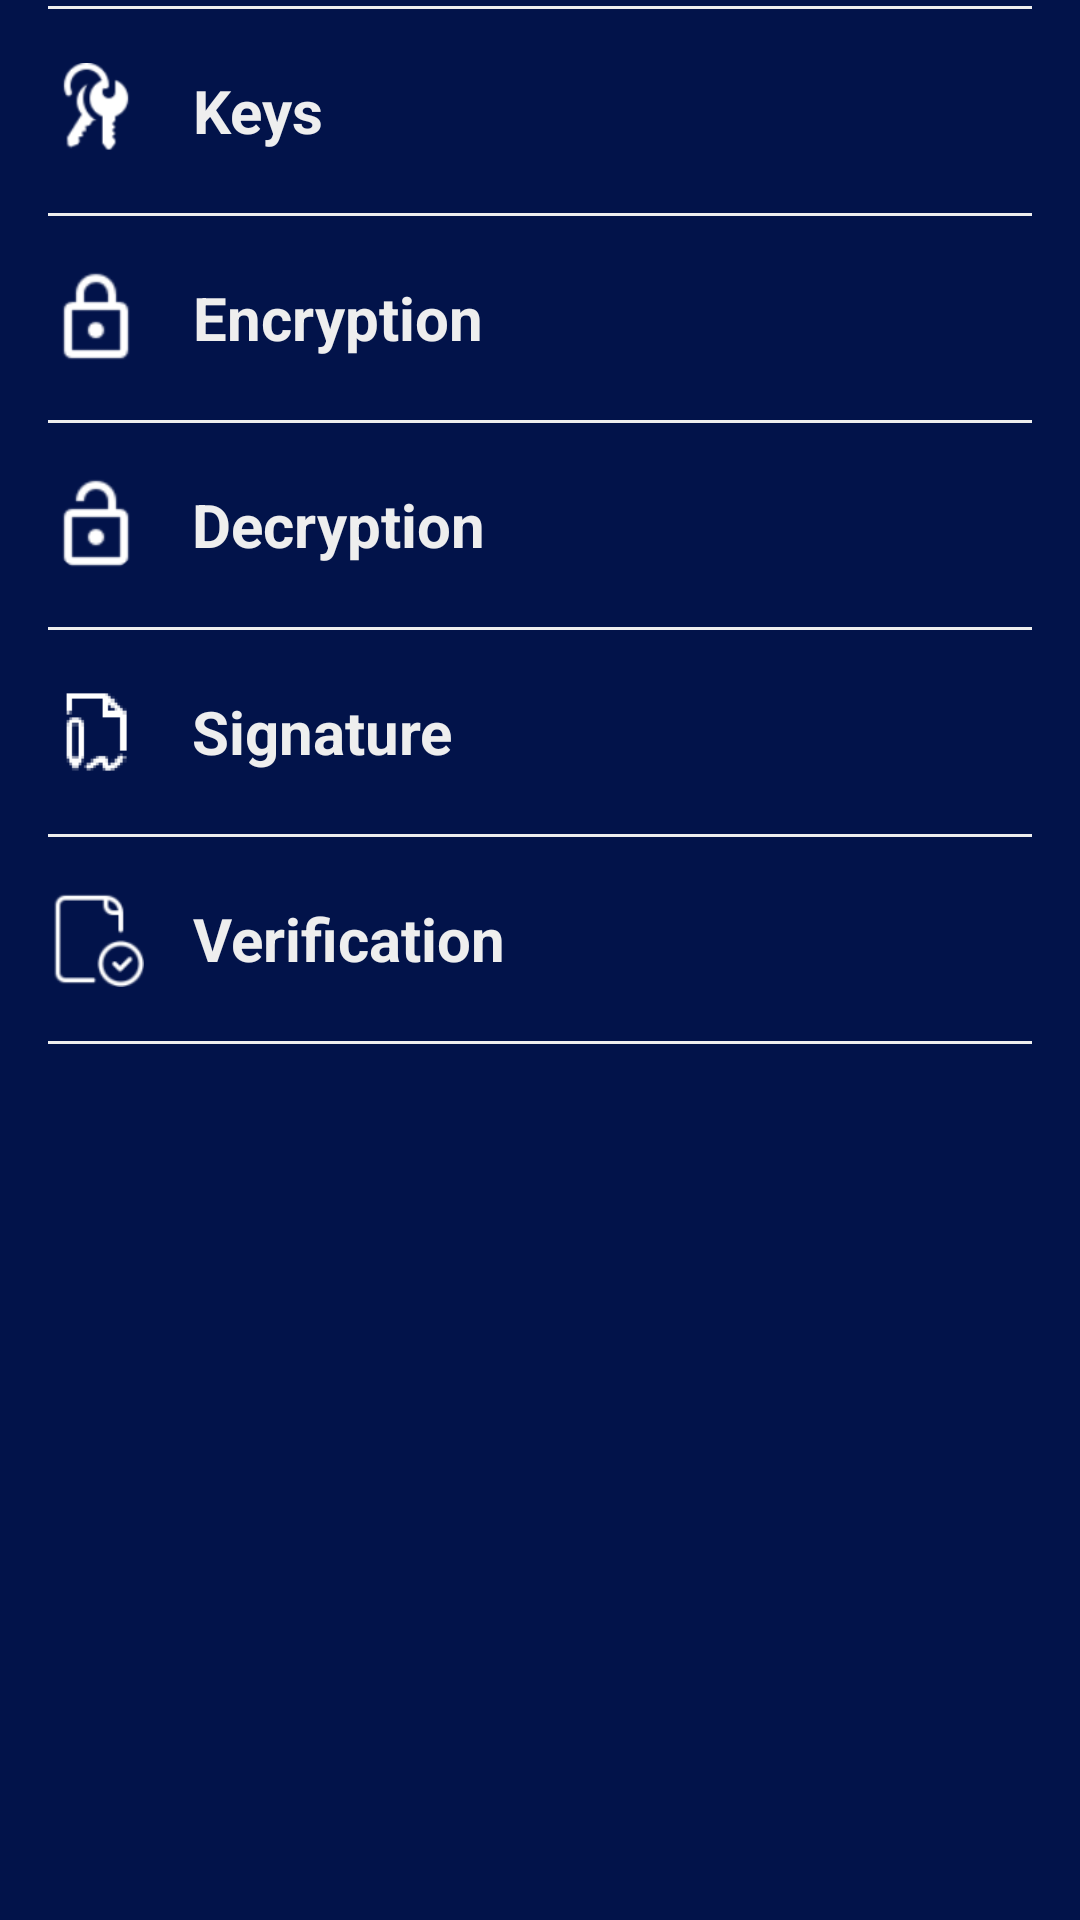

Icon click points for this 1080 x 1920 phone screenshot, format (x,y):
lock: (96,316)
unlock: (96,523)
verify: (99,941)
